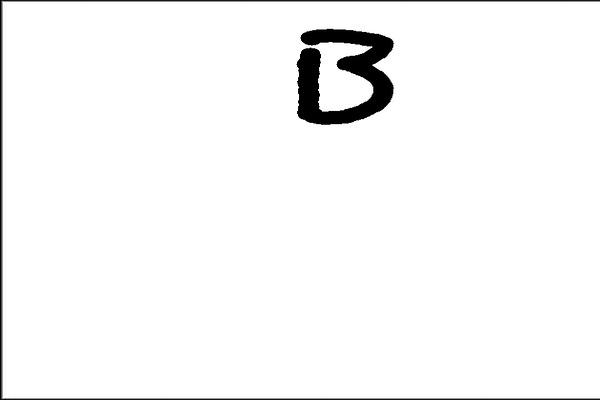B: (291, 20, 401, 125)
